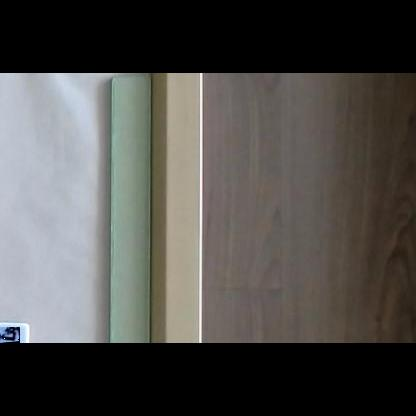2z: (0, 327, 20, 343)
